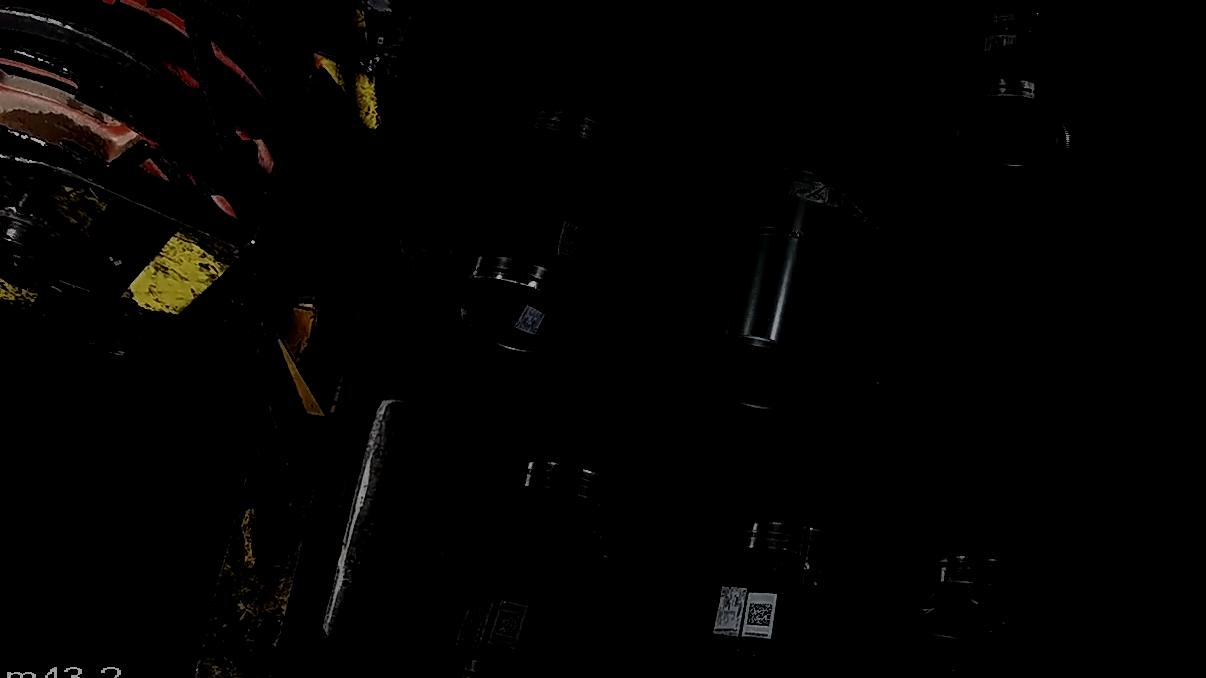data matrix: (493, 609, 525, 641), (745, 601, 775, 631), (559, 227, 586, 256)
